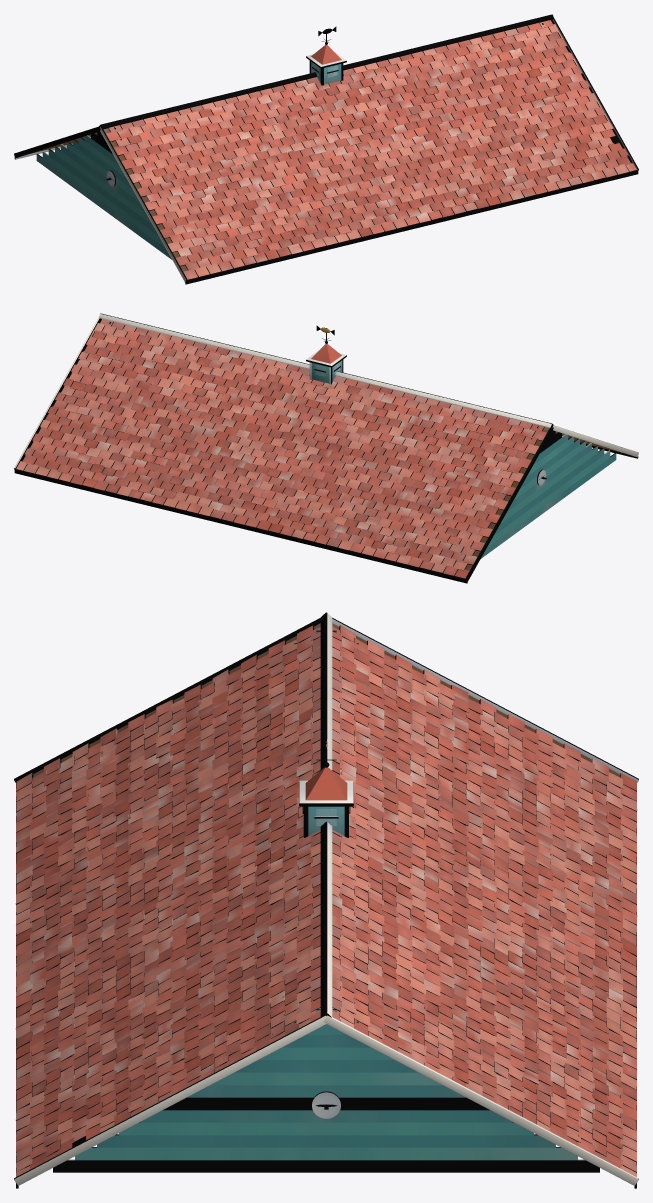
The model's file is museum_roof_3.glb.
3 views of the same model, one above another, from view 1: azimuth 30°, elevation 25°; view 2: azimuth 150°, elevation 25°; view 3: azimuth 270°, elevation 25° (orthographic). The views are drawn at different scales.
Parts seen in each view (by area): view 1: SM_Roof_Shingles, SM_Roof_Fascia, SM_Roof_Gables, SM_Roof_Deck, SM_Roof_Cupola; view 2: SM_Roof_Shingles, SM_Roof_Fascia, SM_Roof_Gables, SM_Roof_Deck, SM_Roof_Cupola; view 3: SM_Roof_Shingles, SM_Roof_Gables, SM_Roof_Fascia, SM_Roof_Cupola, SM_Roof_Deck.
Part boxes in pixels (x1,y1,x2,y2): SM_Roof_Shingles: (106,19,636,279); SM_Roof_Fascia: (14,14,638,284); SM_Roof_Gables: (36,23,555,259); SM_Roof_Deck: (30,23,629,276); SM_Roof_Cupola: (306,26,346,85); SM_Roof_Shingles: (16,318,546,578); SM_Roof_Fascia: (14,313,638,583); SM_Roof_Gables: (103,322,616,558); SM_Roof_Deck: (23,322,622,572); SM_Roof_Cupola: (306,325,346,384); SM_Roof_Shingles: (15,625,637,1176); SM_Roof_Gables: (53,630,599,1172); SM_Roof_Fascia: (14,612,638,1188); SM_Roof_Cupola: (299,731,353,837); SM_Roof_Deck: (33,623,619,777).
Bounding box in the file's own units: 23.34 × 6.8 × 15.38.
Materials: 2 (1 with a texture image).
